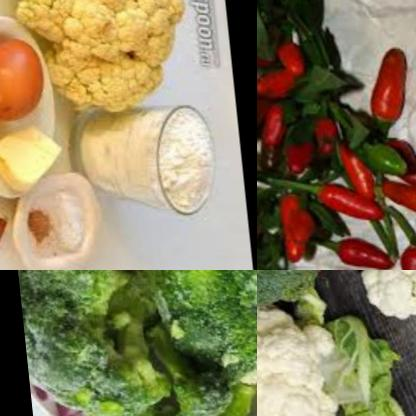broccoli: (0, 270, 257, 416), (149, 270, 257, 376)
cayliflower: (6, 0, 200, 118), (257, 300, 343, 416), (353, 270, 416, 326)
garlic: (0, 211, 8, 252)
hot pepper: (359, 43, 414, 130), (264, 198, 320, 262), (326, 140, 380, 206), (304, 189, 384, 229), (276, 122, 336, 175), (319, 234, 395, 270), (376, 131, 416, 191), (372, 173, 416, 219), (271, 42, 320, 82), (257, 100, 289, 151), (257, 68, 299, 105), (257, 74, 278, 134), (391, 236, 416, 270)
